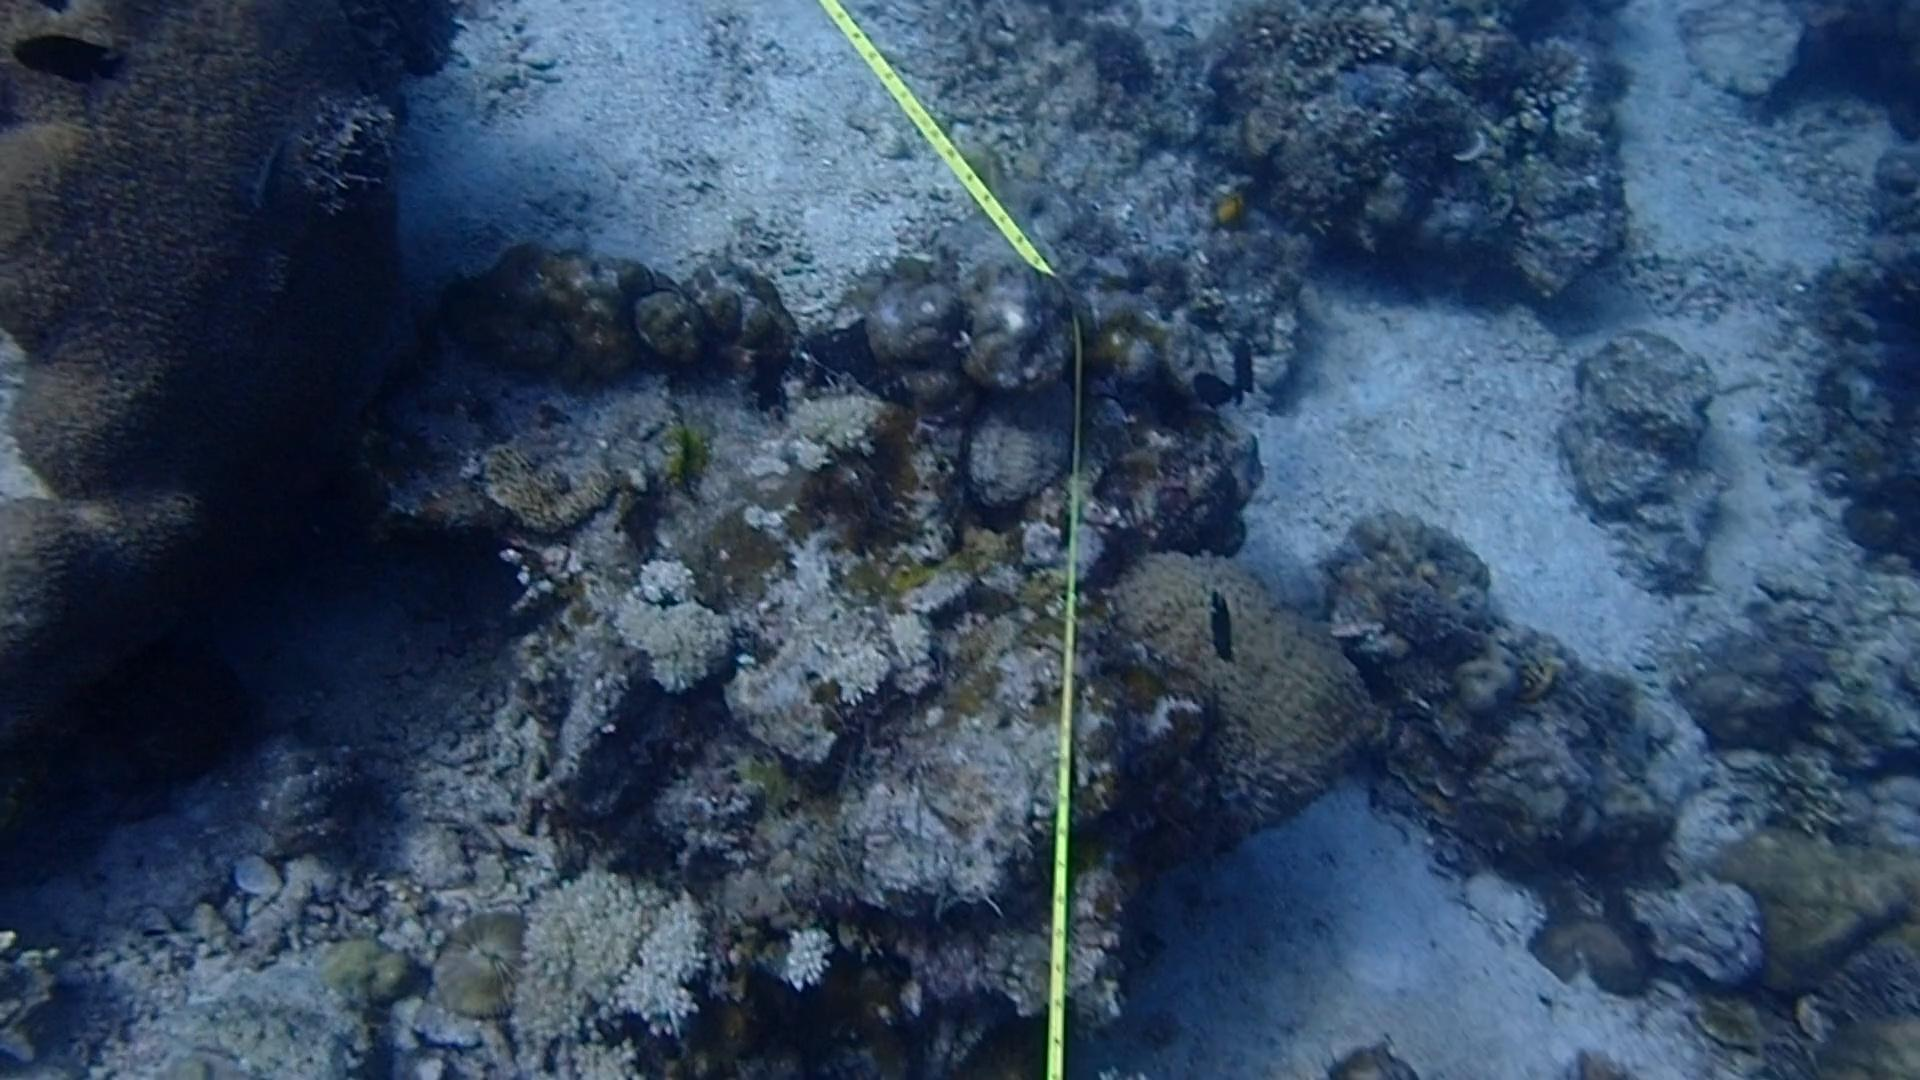Dark Fish: (0, 21, 140, 99), (1336, 638, 1416, 717), (1196, 578, 1254, 671), (1209, 328, 1267, 410), (1182, 357, 1225, 414)
